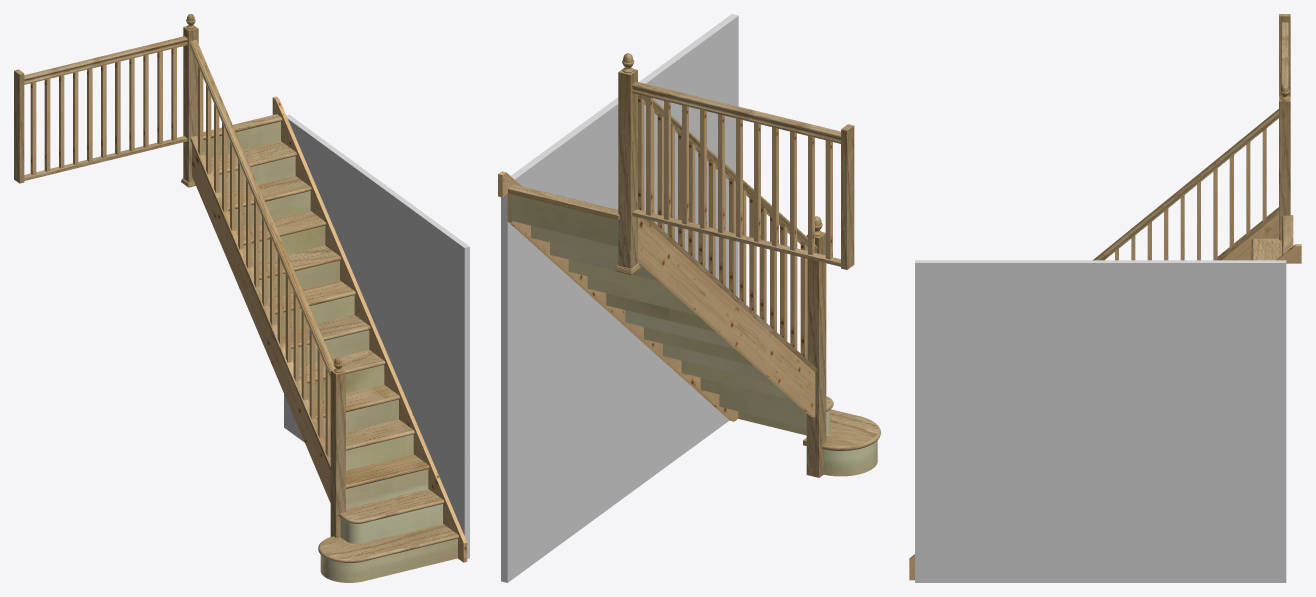
The model's file is stair.fbx.
3 views of the same model, side by side, from view 1: azimuth 30°, elevation 25°; view 2: azimuth 150°, elevation 25°; view 3: azimuth 270°, elevation 25° (orthographic). The views are drawn at different scales.
Visible parts, largest first — view 1: _x0023_BEGIN_WALLwhite-paint.jpg1110.3, _x0023_RISERBirch.jpg1111, _x0023_TREADbig-oaktex.jpg1111, _x0023_HANDRAILbig-oaktex.jpg1111.001, _x0023_BALUSTERtk-whitewood.jpg1111, _x0023_STRINGtk-whitewood.jpg1111.001, _x0023_STRINGtk-whitewood.jpg1111, _x0023_POSTbig-oaktex.jpg1111, _x0023_HANDRAILbig-oaktex.jpg1111, _x0023_BOTTOMRAILbig-oaktex.jpg1111; view 2: _x0023_BEGIN_WALLwhite-paint.jpg1110.3, _x0023_RISERBirch.jpg1111, _x0023_HANDRAILbig-oaktex.jpg1111.001, _x0023_BALUSTERtk-whitewood.jpg1111, _x0023_STRINGtk-whitewood.jpg1111, _x0023_POSTbig-oaktex.jpg1111, _x0023_STRINGtk-whitewood.jpg1111.001, _x0023_TREADbig-oaktex.jpg1111, _x0023_HANDRAILbig-oaktex.jpg1111, _x0023_BOTTOMRAILbig-oaktex.jpg1111; view 3: _x0023_BEGIN_WALLwhite-paint.jpg1110.3, _x0023_BALUSTERtk-whitewood.jpg1111, _x0023_HANDRAILbig-oaktex.jpg1111, _x0023_POSTbig-oaktex.jpg1111, _x0023_TREADbig-oaktex.jpg1111, _x0023_HANDRAILbig-oaktex.jpg1111.001, _x0023_STRINGtk-whitewood.jpg1111.
Part boxes in pixels (box(x1,y1,x2,y2)): _x0023_BEGIN_WALLwhite-paint.jpg1110.3: box(284, 114, 469, 558); _x0023_RISERBirch.jpg1111: box(203, 121, 457, 582); _x0023_TREADbig-oaktex.jpg1111: box(203, 114, 458, 562); _x0023_HANDRAILbig-oaktex.jpg1111.001: box(14, 36, 187, 183); _x0023_BALUSTERtk-whitewood.jpg1111: box(198, 66, 330, 457); _x0023_STRINGtk-whitewood.jpg1111.001: box(272, 96, 467, 562); _x0023_STRINGtk-whitewood.jpg1111: box(192, 144, 330, 502); _x0023_POSTbig-oaktex.jpg1111: box(181, 14, 345, 537); _x0023_HANDRAILbig-oaktex.jpg1111: box(190, 40, 335, 377); _x0023_BOTTOMRAILbig-oaktex.jpg1111: box(190, 136, 330, 470); _x0023_BEGIN_WALLwhite-paint.jpg1110.3: box(501, 14, 738, 582); _x0023_RISERBirch.jpg1111: box(510, 194, 877, 476); _x0023_HANDRAILbig-oaktex.jpg1111.001: box(632, 81, 854, 269); _x0023_BALUSTERtk-whitewood.jpg1111: box(638, 95, 807, 359); _x0023_STRINGtk-whitewood.jpg1111: box(638, 217, 815, 417); _x0023_POSTbig-oaktex.jpg1111: box(615, 53, 826, 477); _x0023_STRINGtk-whitewood.jpg1111.001: box(498, 171, 738, 421); _x0023_TREADbig-oaktex.jpg1111: box(508, 184, 880, 450); _x0023_HANDRAILbig-oaktex.jpg1111: box(638, 94, 817, 253); _x0023_BOTTOMRAILbig-oaktex.jpg1111: box(638, 208, 816, 372); _x0023_BEGIN_WALLwhite-paint.jpg1110.3: box(915, 260, 1286, 582); _x0023_BALUSTERtk-whitewood.jpg1111: box(1115, 128, 1266, 260); _x0023_HANDRAILbig-oaktex.jpg1111: box(1093, 109, 1278, 260); _x0023_POSTbig-oaktex.jpg1111: box(1279, 84, 1290, 240); _x0023_TREADbig-oaktex.jpg1111: box(1251, 215, 1293, 260); _x0023_HANDRAILbig-oaktex.jpg1111.001: box(1279, 14, 1290, 96); _x0023_STRINGtk-whitewood.jpg1111: box(1222, 214, 1278, 260).
Bounding box in the file's own units: 249 × 381 × 302.
Materials: 8 (8 with a texture image).
